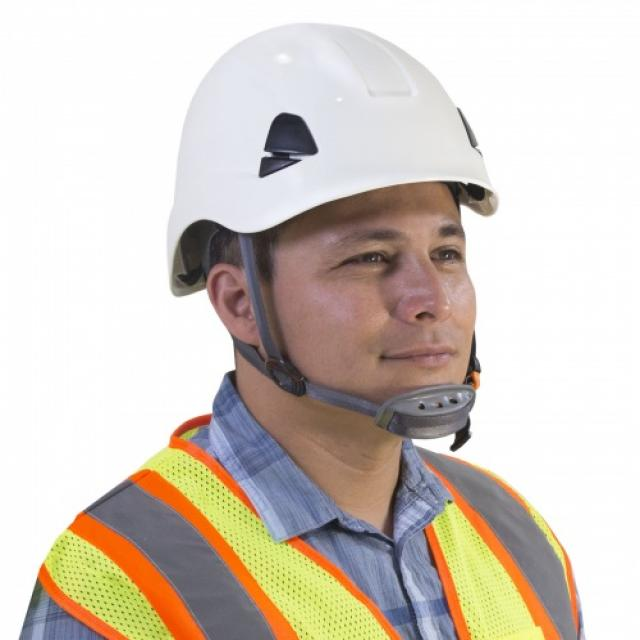Reflective-Jacket: (30, 425, 588, 637)
Safety-Helmet: (160, 23, 506, 228)
